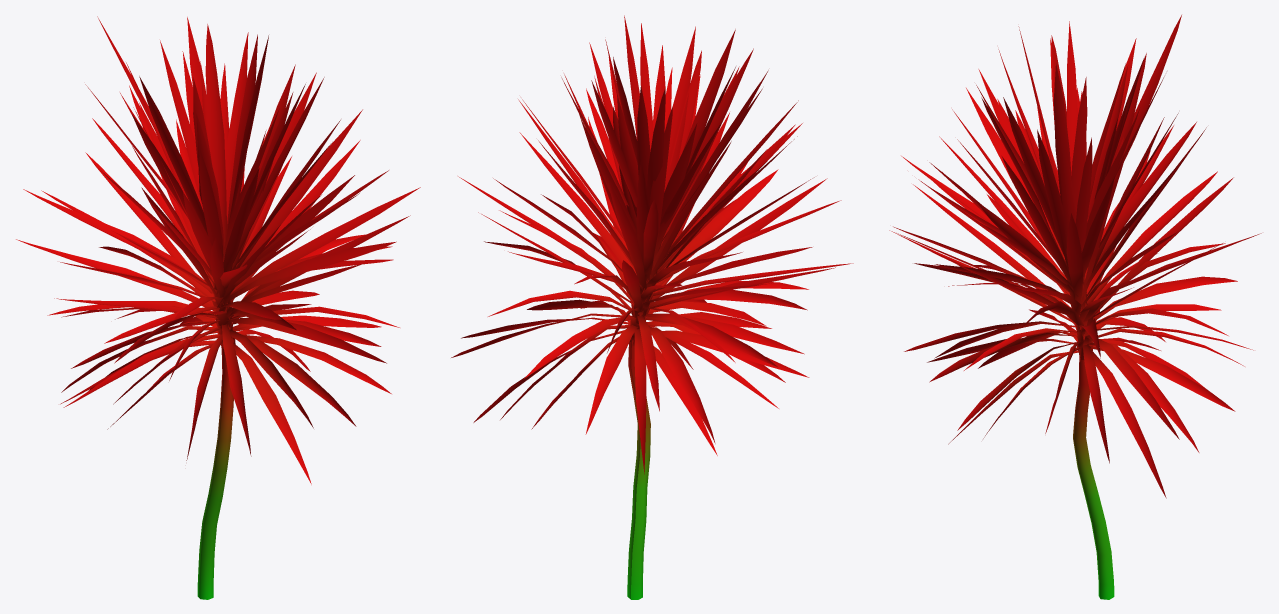
Rendered from Var6_LOD4.fbx.
3 views of the same model, side by side, from view 1: azimuth 30°, elevation 25°; view 2: azimuth 150°, elevation 25°; view 3: azimuth 270°, elevation 25° (orthographic). The views are drawn at different scales.
Visible parts, largest first — view 1: _da1w_Var6_LOD4; view 2: _da1w_Var6_LOD4; view 3: _da1w_Var6_LOD4.
Part boxes in pixels (x1=…): _da1w_Var6_LOD4: x1=16, y1=16, x2=420, y2=599; _da1w_Var6_LOD4: x1=451, y1=15, x2=853, y2=599; _da1w_Var6_LOD4: x1=889, y1=15, x2=1261, y2=599.
Bounding box in the file's own units: 117 × 178 × 112.
